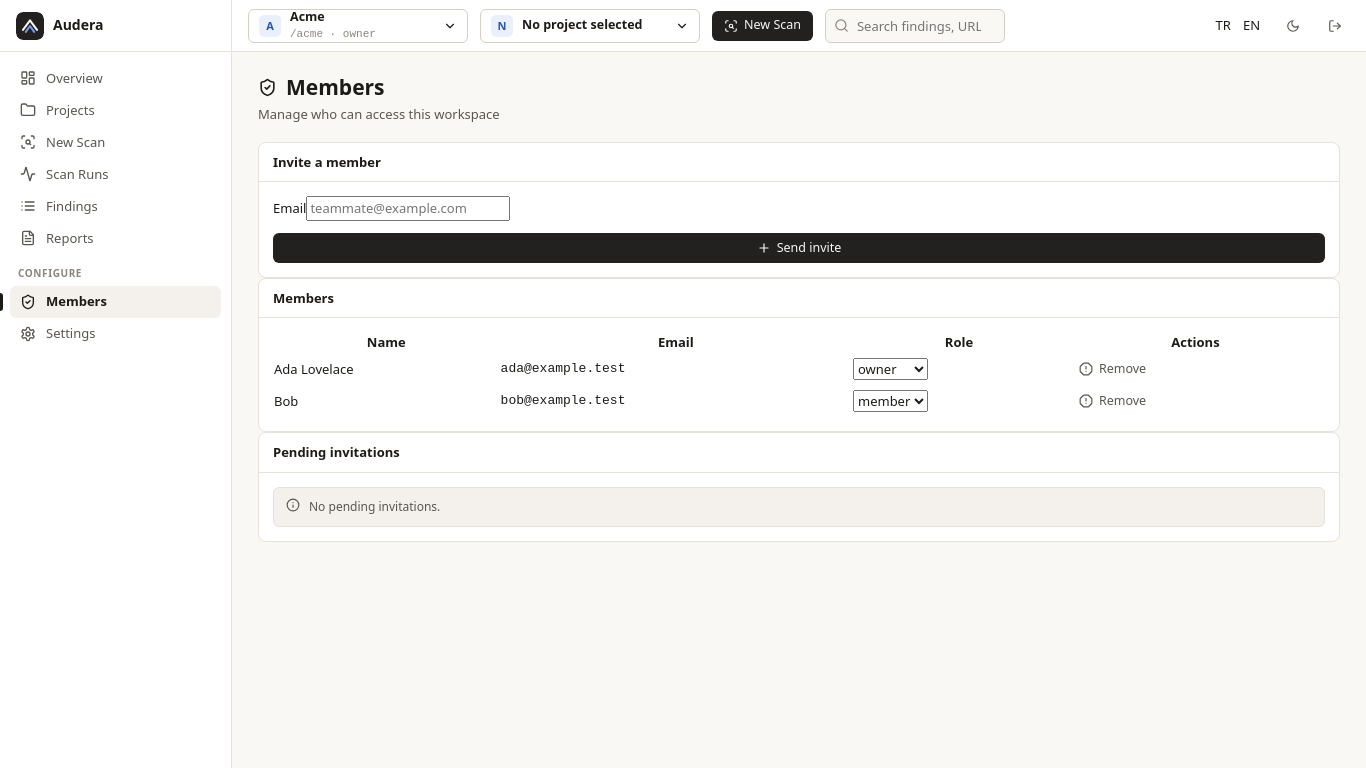
Scenario: members page › shows the error banner when a mutation fails
Expected: the row "Bob bob@example.test Remove" is shown, [273,385,1325,417]
Click the button "Remove" in the row of "bob@example.test" at (1112, 401), box [1067,386,1158,416]
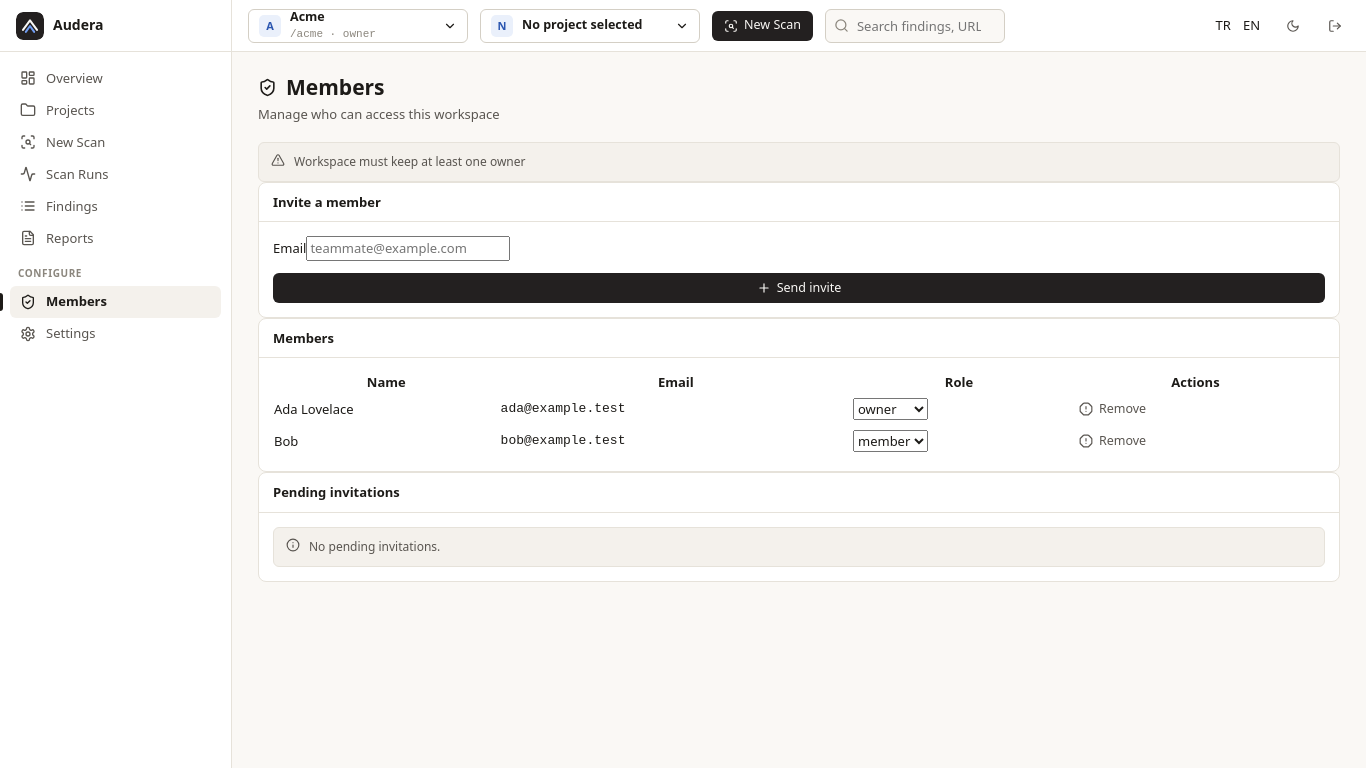
Expected: the text "Workspace must keep at least one owner" is shown, [258,142,1340,182]
